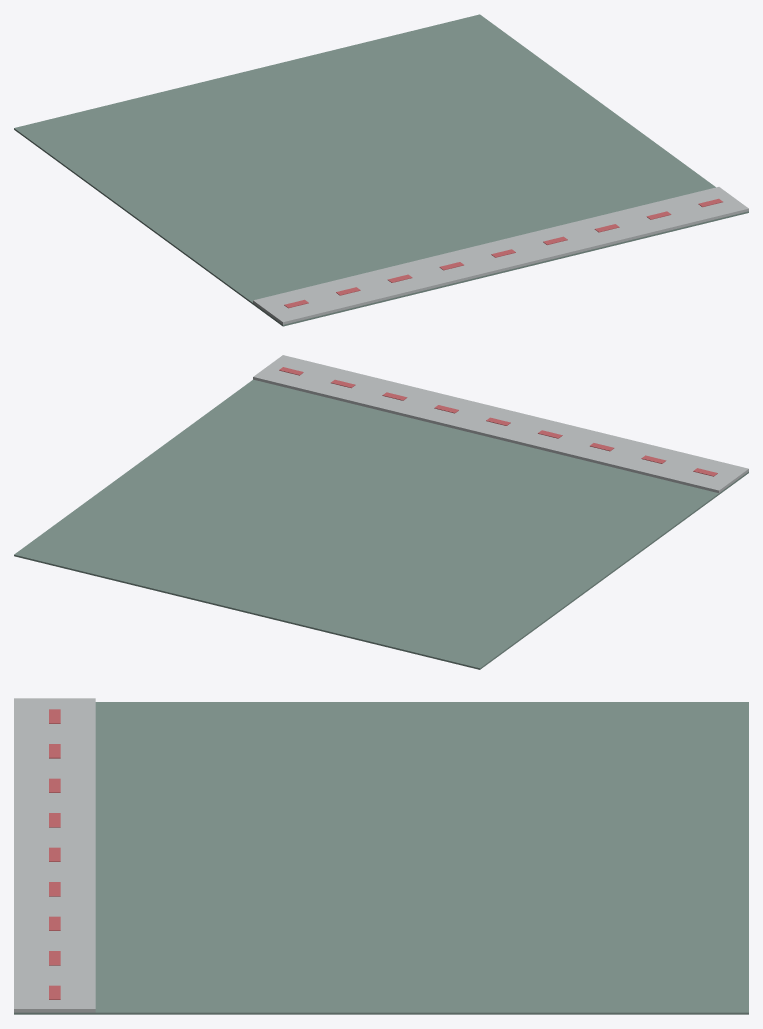
The model's file is stage_00.glb.
The picture shows the model from 3 angles, top to bottom: view 1: azimuth 30°, elevation 25°; view 2: azimuth 150°, elevation 25°; view 3: azimuth 270°, elevation 25°; orthographic projection. The views are drawn at different scales.
Visible parts, largest first — view 1: geometry_0; view 2: geometry_0; view 3: geometry_0.
Part boxes in pixels (box(x1,y1,x2,y2)): geometry_0: box(14, 14, 748, 326); geometry_0: box(14, 355, 748, 669); geometry_0: box(14, 698, 748, 1014).
Size of the model in its own units: 9 by 0.091 by 9.
